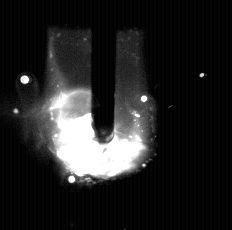arame: (93, 0, 116, 144)
poca: (49, 0, 150, 230)
